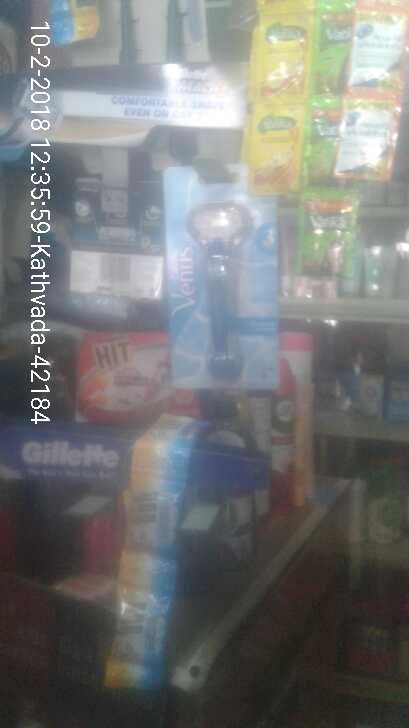beauty: (161, 170, 281, 398), (102, 553, 174, 690), (124, 434, 176, 555)
